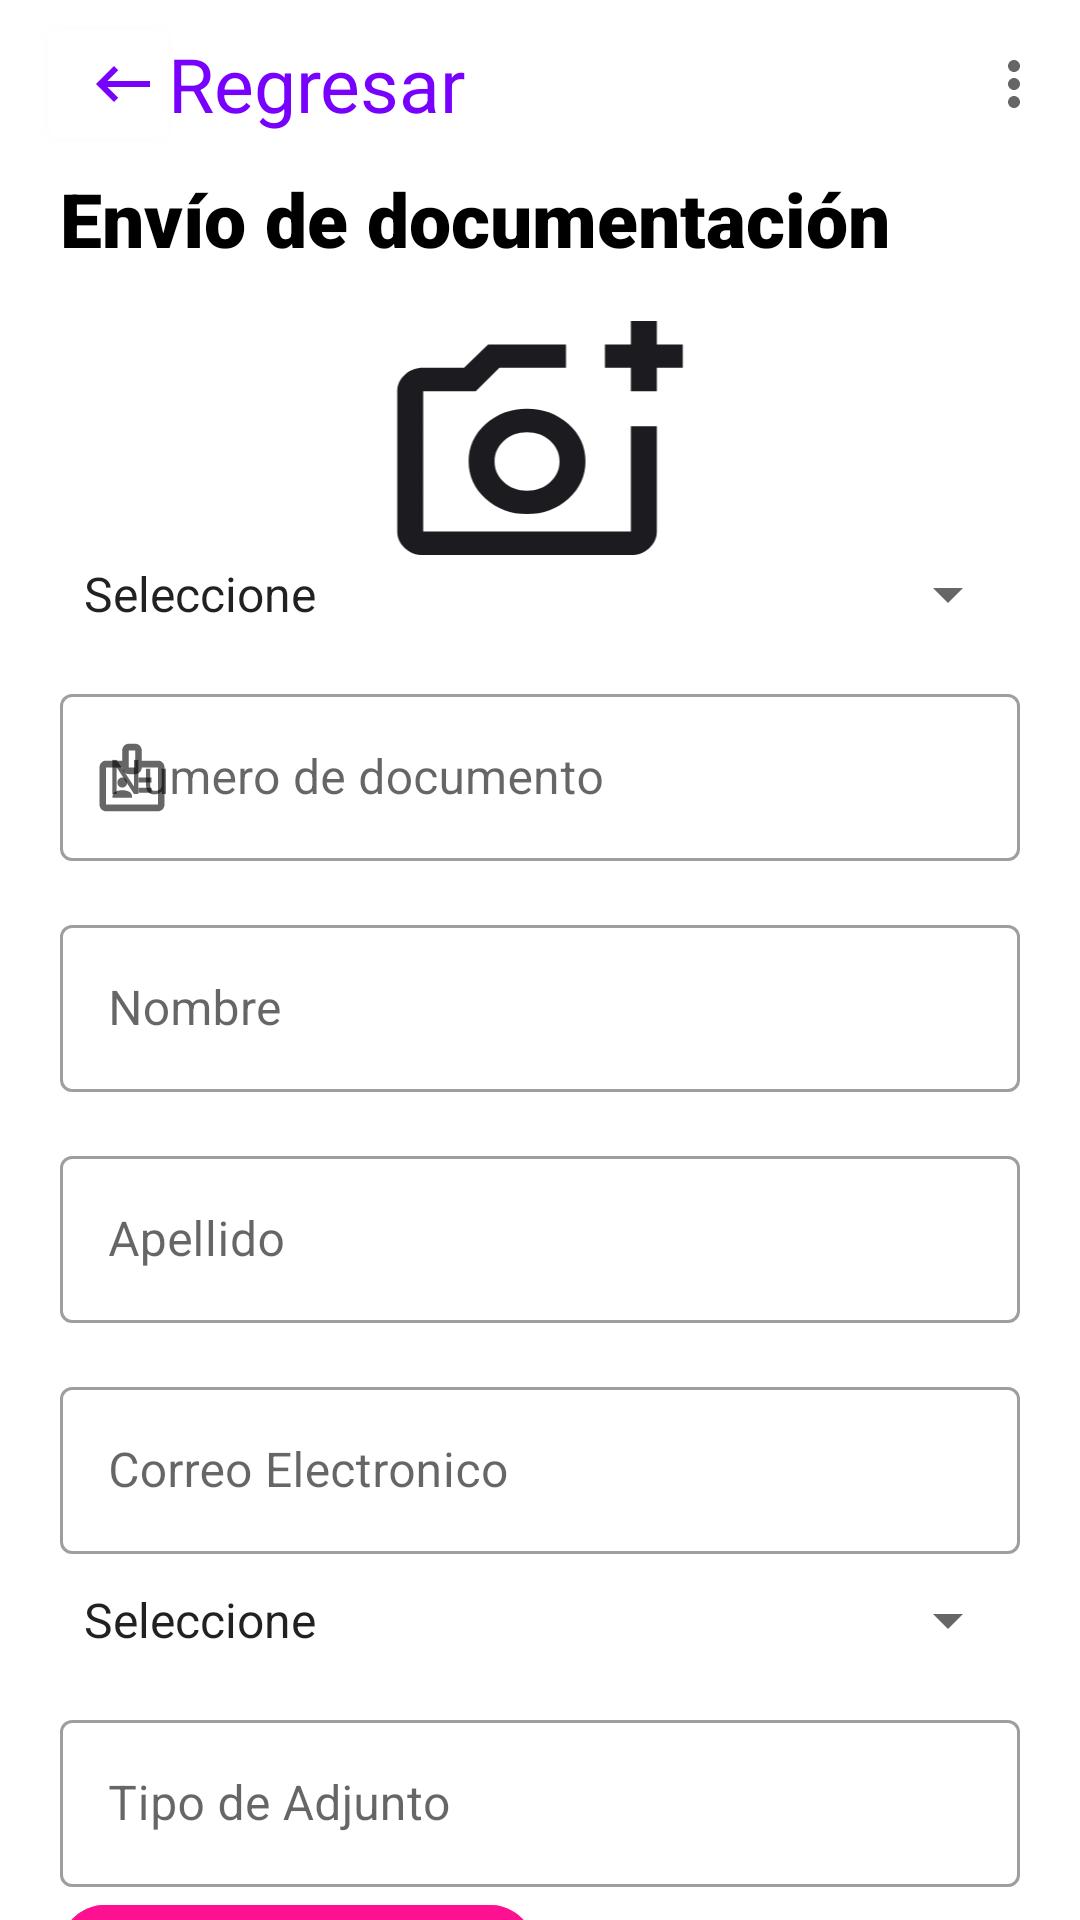

Where to tap for icons on this 1080x1920 app screen, as [x,y]:
add photo: [540,438]
arrow back: [123,84]
